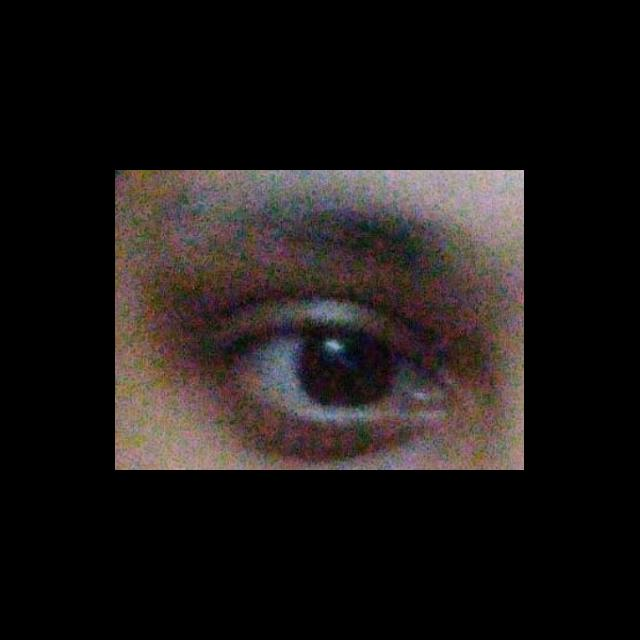eye: (237, 327, 431, 418)
iris: (295, 333, 395, 405)
